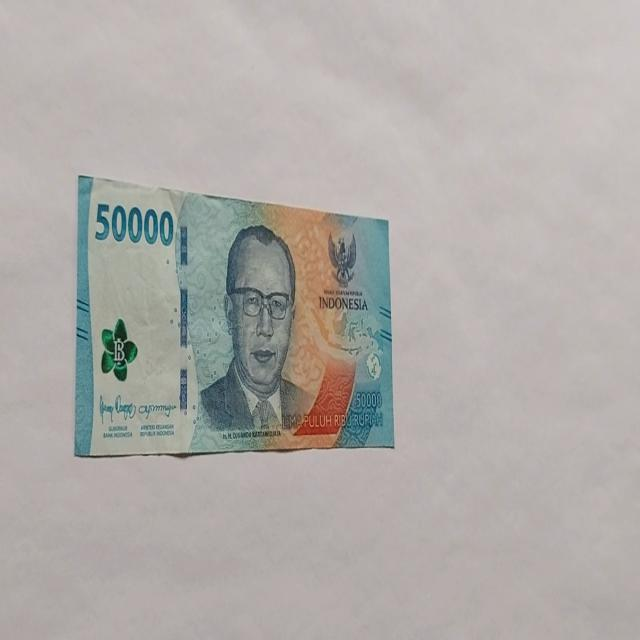lima puluh ribu rupiah: (73, 172, 394, 458), (194, 222, 317, 442)
